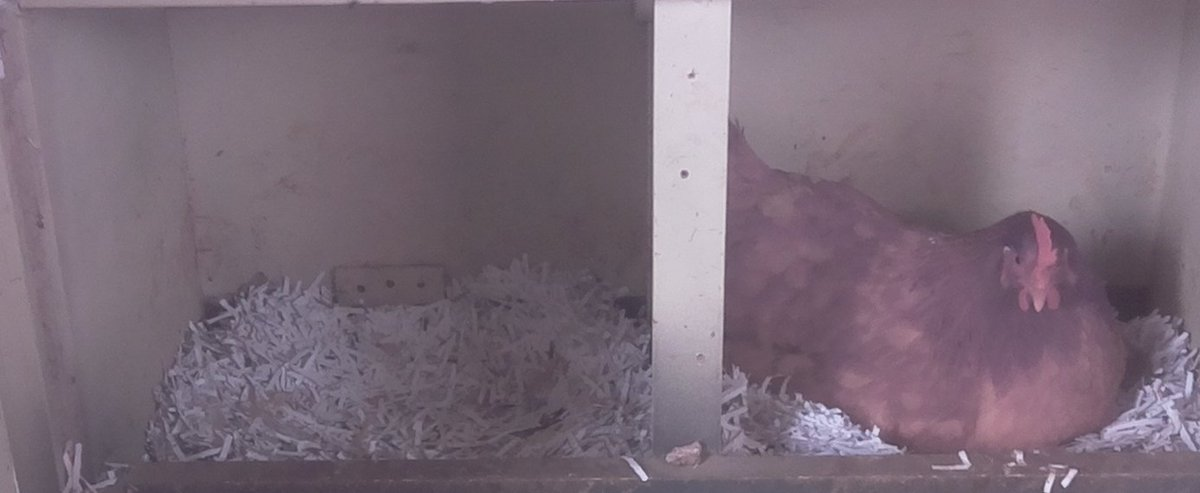hen: (728, 202, 1131, 445)
